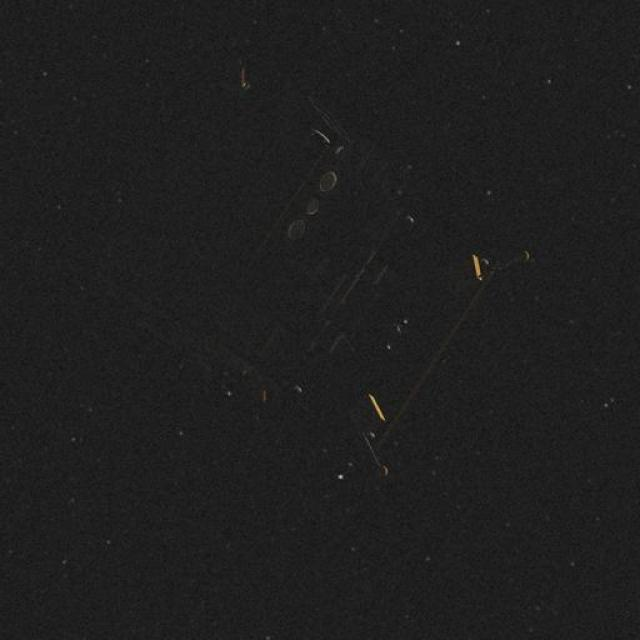proba_2: (251, 79, 508, 523)
